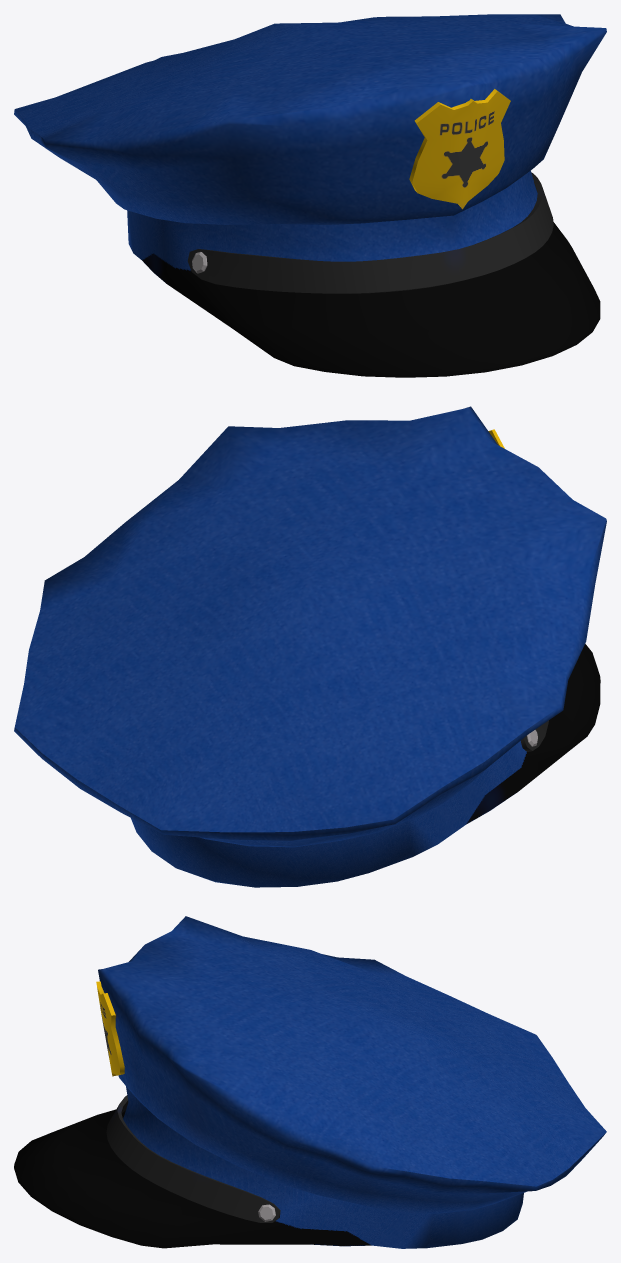
Rendered from policeHat.fbx.
3 views of the same model, one above another, from view 1: azimuth 30°, elevation 25°; view 2: azimuth 150°, elevation 25°; view 3: azimuth 270°, elevation 25° (orthographic). The views are drawn at different scales.
Parts seen in each view (by area): view 1: policeHat; view 2: policeHat; view 3: policeHat.
Boxes of the visible parts, x1,y1,x2,y2 form: policeHat: (14, 14, 606, 377); policeHat: (14, 406, 606, 887); policeHat: (14, 916, 606, 1248).
Bounding box in the file's own units: 0.4093 × 0.219 × 0.4944.
Materials: 1 (1 with a texture image).
